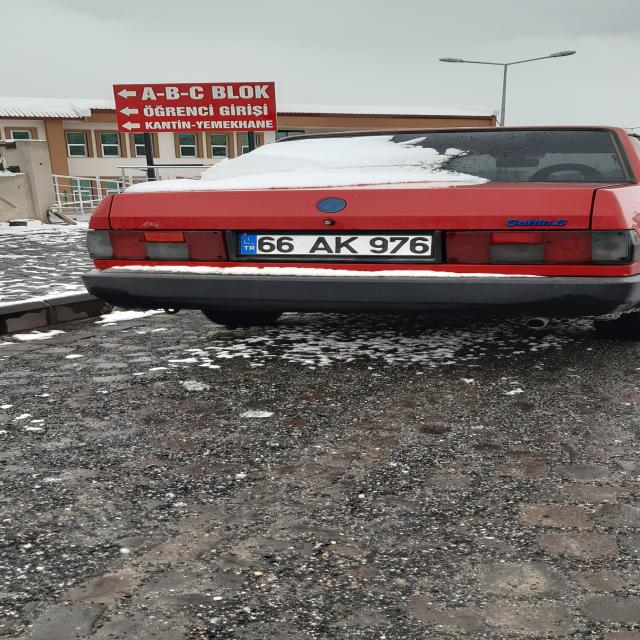license_plate: (238, 234, 432, 256)
